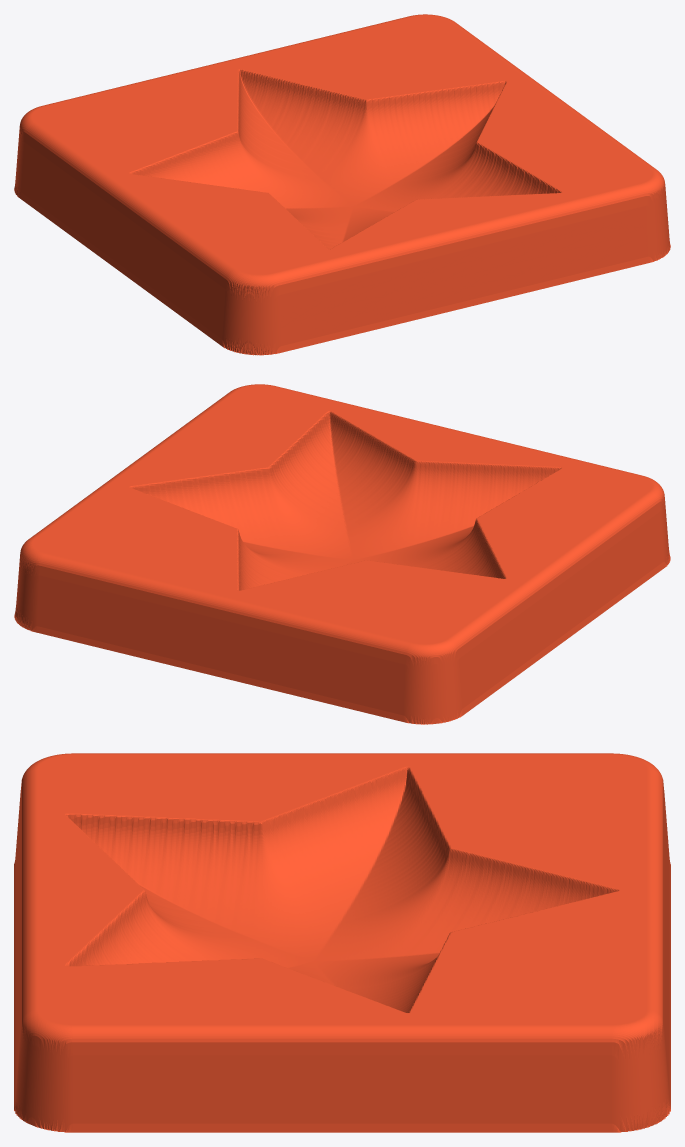
File: mold.glb
The picture shows the model from 3 angles, top to bottom: view 1: azimuth 30°, elevation 25°; view 2: azimuth 150°, elevation 25°; view 3: azimuth 270°, elevation 25°; orthographic projection. The views are drawn at different scales.
Visible parts, largest first — view 1: geometry_0; view 2: geometry_0; view 3: geometry_0.
Part boxes in pixels (bbox=[...]): geometry_0: bbox=[14, 14, 670, 355]; geometry_0: bbox=[14, 384, 670, 724]; geometry_0: bbox=[14, 753, 670, 1132].
Bounding box in the file's own units: 0.105 × 0.0165 × 0.1006.
